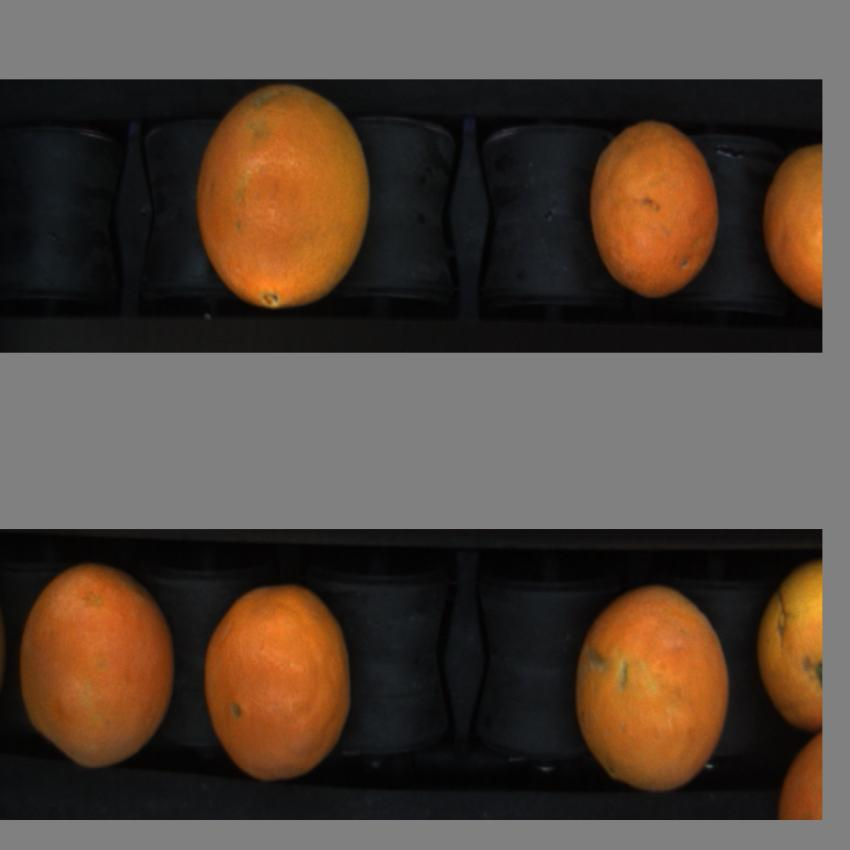Buen estado: (190, 82, 377, 312), (572, 578, 732, 789), (586, 110, 726, 308), (755, 132, 824, 320), (756, 557, 822, 729), (776, 731, 822, 820)
Mal estado: (19, 559, 176, 772), (201, 582, 357, 781)
